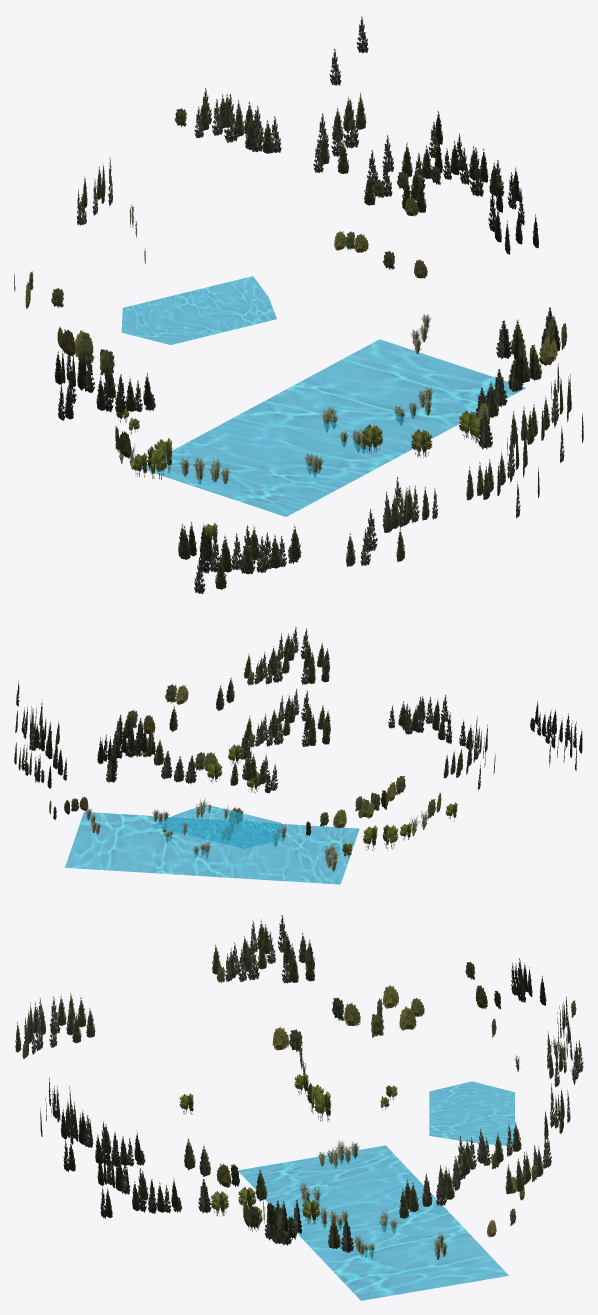
File: physicsless-scene.glb
The picture shows the model from 3 angles, top to bottom: view 1: azimuth 30°, elevation 25°; view 2: azimuth 150°, elevation 25°; view 3: azimuth 270°, elevation 25°; orthographic projection. The views are drawn at different scales.
Parts seen in each view (by area): view 1: water-mesh, bush-tree, water2-mesh, large-grass, mesh_70_69.nr_mat_13_0, bush2, bush-tree2; view 2: water-mesh, bush-tree, water2-mesh, mesh_70_69.nr_mat_13_0, large-grass, bush2, bush-tree2, bush-tree2.001; view 3: water-mesh, bush-tree, water2-mesh, mesh_70_69.nr_mat_13_0, bush2, large-grass, bush-tree2, bush-tree2.001.
Part boxes in pixels (x1,y1,x2,y2): water-mesh: (142, 339, 525, 516); bush-tree: (54, 16, 583, 593); water2-mesh: (121, 276, 276, 344); large-grass: (116, 204, 434, 483); mesh_70_69.nr_mat_13_0: (14, 108, 567, 563); bush2: (25, 197, 557, 458); bush-tree2: (147, 410, 490, 479); water-mesh: (65, 812, 359, 884); bush-tree: (14, 626, 582, 793); water2-mesh: (151, 804, 281, 848); mesh_70_69.nr_mat_13_0: (25, 672, 535, 835); large-grass: (85, 797, 430, 871); bush2: (38, 685, 441, 828); bush-tree2: (207, 744, 398, 851); bush-tree2.001: (342, 802, 457, 858); water-mesh: (238, 1145, 508, 1300); bush-tree: (15, 915, 583, 1252); water2-mesh: (429, 1081, 514, 1146); mesh_70_69.nr_mat_13_0: (22, 962, 576, 1239); bush2: (216, 985, 524, 1238); large-grass: (298, 1036, 576, 1259); bush-tree2: (211, 1083, 331, 1231); bush-tree2.001: (179, 1073, 397, 1114).
Size of the model in its own units: 70.87 by 36.12 by 72.82.
6 materials, 6 textured.
